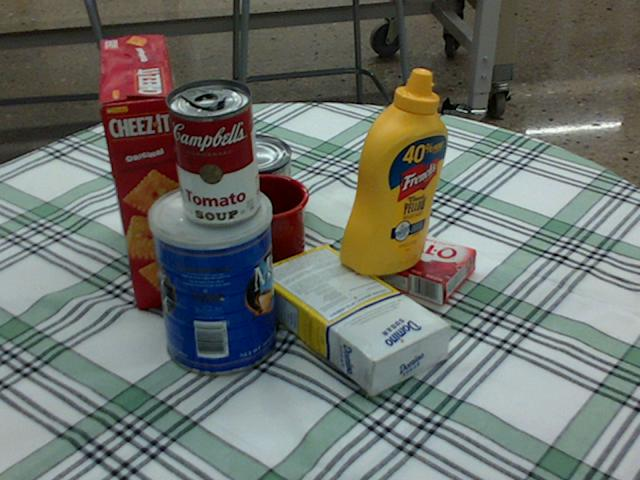cracker_box: (97, 37, 201, 307)
gelatin_box: (364, 227, 475, 306)
master_chef_can: (146, 180, 278, 376)
mug: (196, 173, 307, 281)
mustard_bottle: (339, 68, 446, 274)
potted_meat_can: (186, 152, 301, 239)
sugar_box: (253, 244, 452, 392)
tomato_soup_can: (165, 77, 258, 224)
tuna_fish_can: (211, 134, 291, 198)
